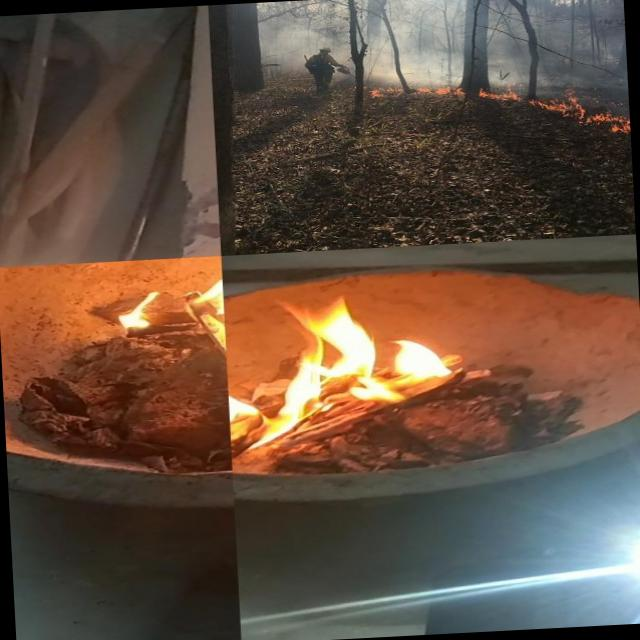fire: (224, 292, 464, 460), (477, 80, 531, 104), (362, 80, 412, 102), (577, 104, 624, 127), (414, 80, 466, 100), (534, 92, 576, 116), (610, 124, 631, 145)
smoke: (365, 0, 475, 82), (537, 0, 628, 91), (470, 0, 538, 81), (259, 0, 365, 48)
